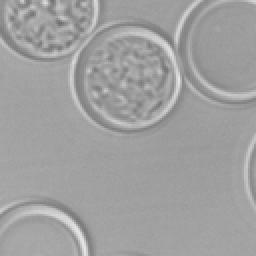picoshell: (68, 20, 182, 132), (0, 196, 92, 256), (242, 136, 256, 212)
